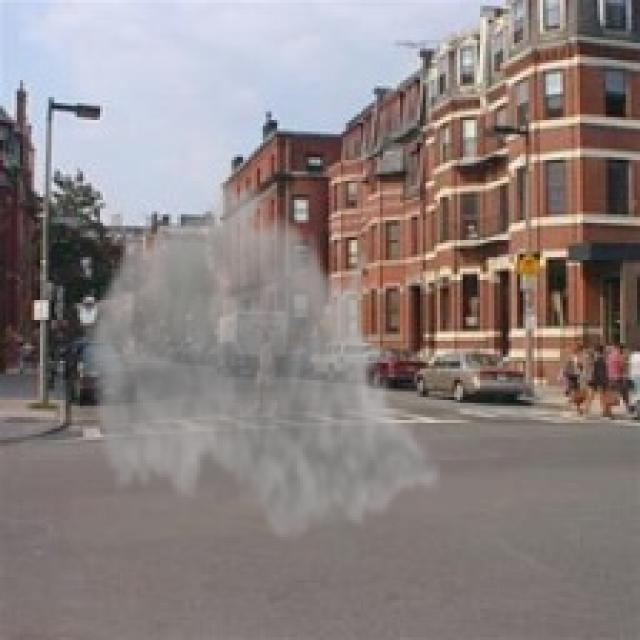smoke: (83, 168, 446, 552)
